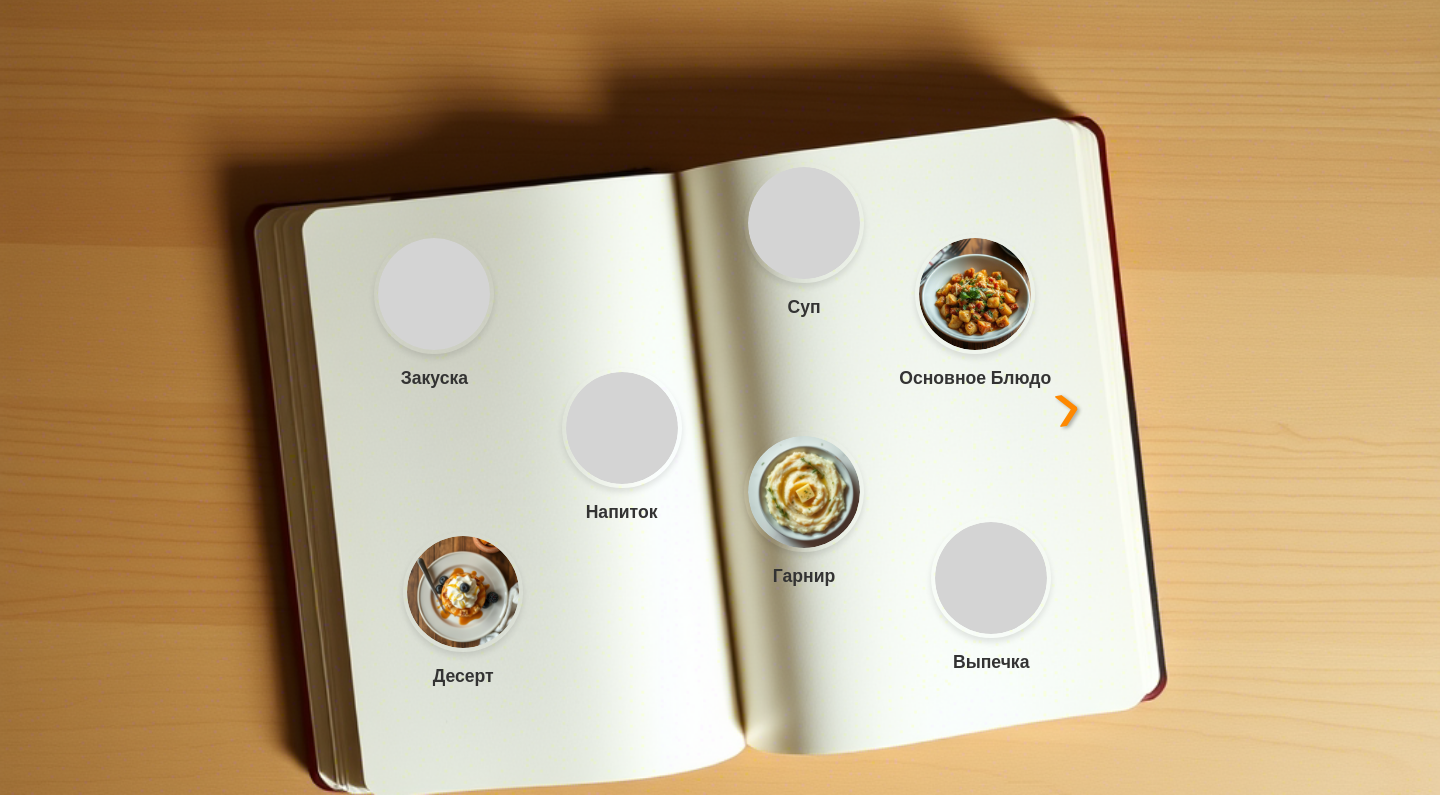
Test case: CategoryGrid Component › displays warning when trying to proceed without selection
This screenshot has width=1440, height=810.
Click the text "›" at (1067, 404), box [1042, 339, 1091, 469]
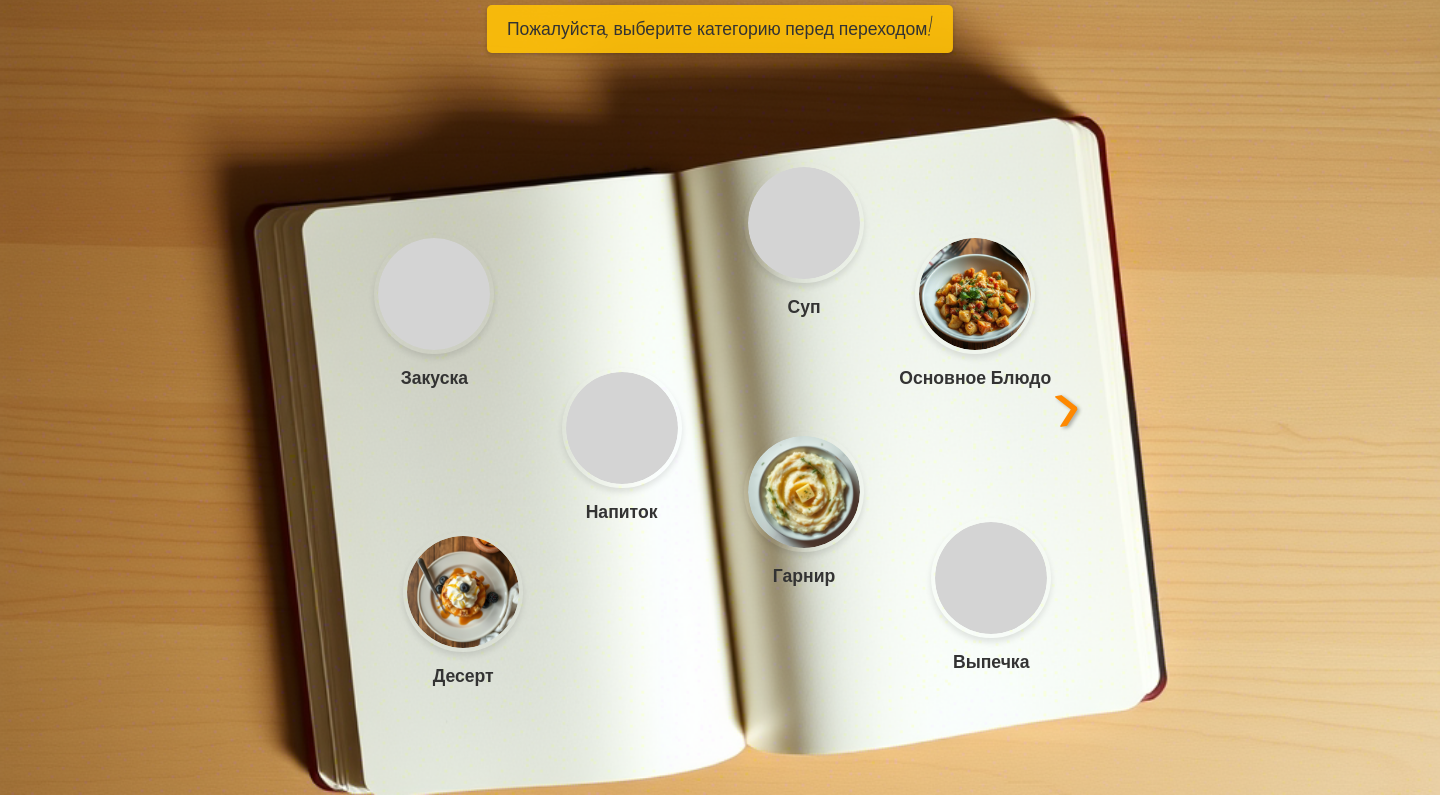
Expected: the text "Пожалуйста, выберите категорию перед переходом!" is shown, [487, 5, 953, 53]
